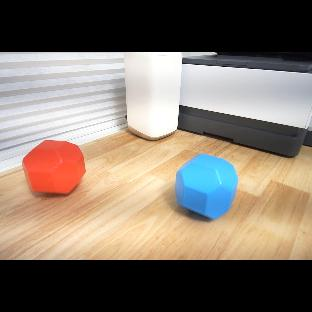V5_BLUE: (174, 153, 241, 220), (175, 154, 238, 219)
V5_RED: (21, 140, 87, 196), (22, 140, 86, 194)
